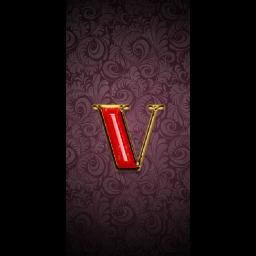v: (92, 98, 168, 176)
